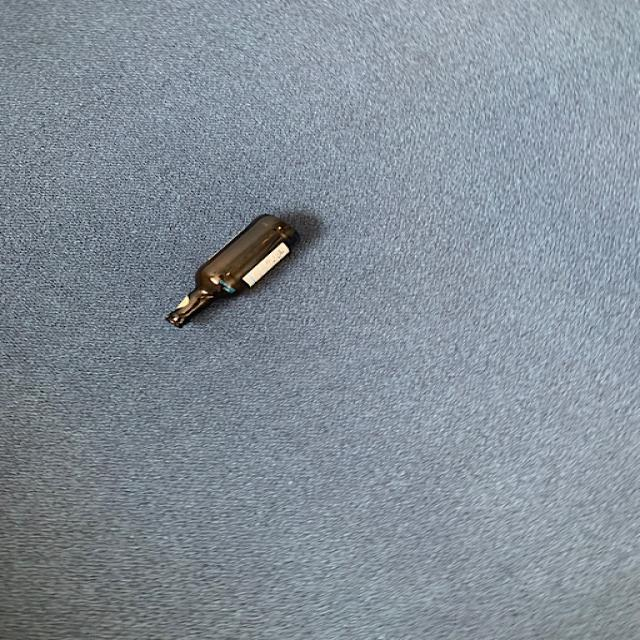litter: (160, 212, 318, 334)
